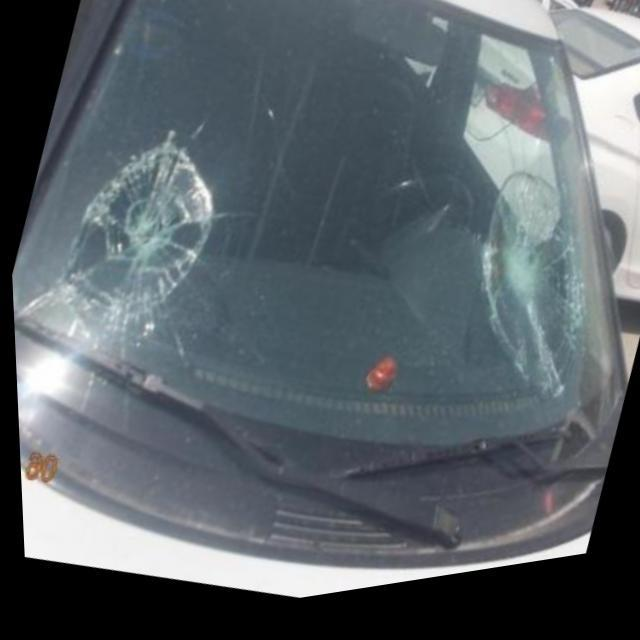glass shatter: (58, 148, 210, 334), (481, 191, 579, 402)
